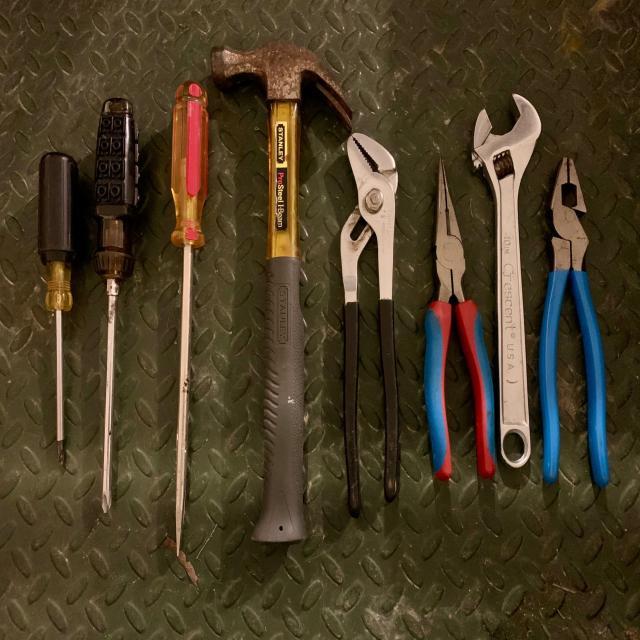Screwdriver: (93, 98, 138, 513), (170, 78, 208, 558), (38, 152, 78, 464)
